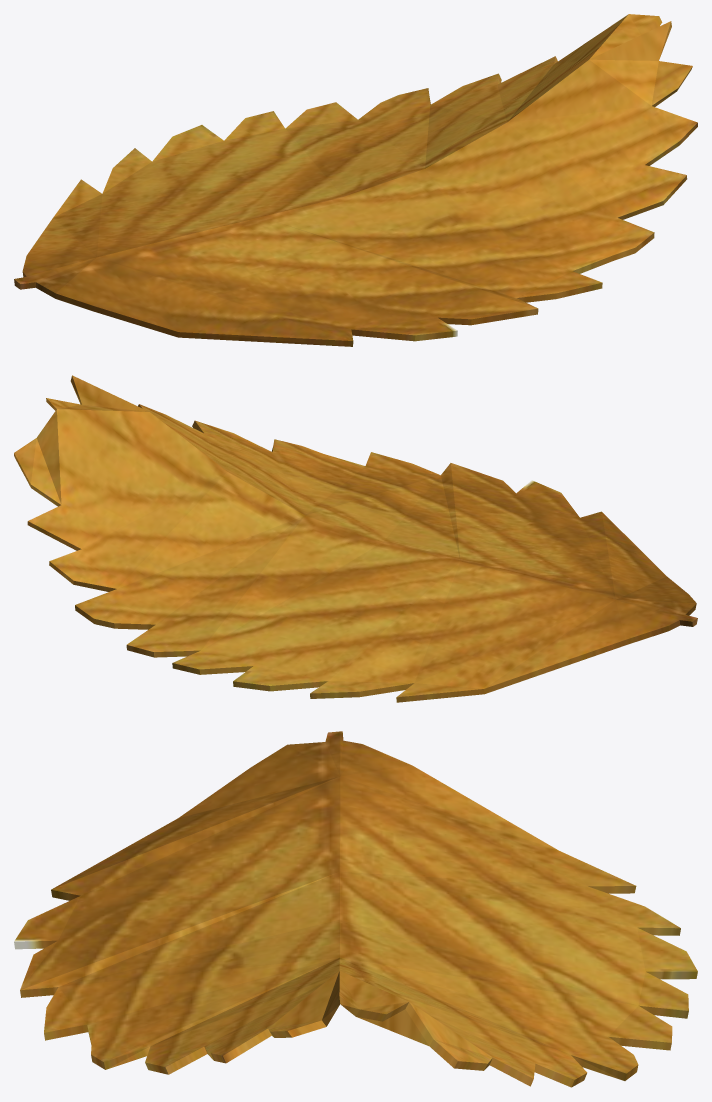
The model's file is leaf2_collision.dae.
3 views of the same model, one above another, from view 1: azimuth 30°, elevation 25°; view 2: azimuth 150°, elevation 25°; view 3: azimuth 270°, elevation 25° (orthographic). The views are drawn at different scales.
Parts seen in each view (by area): view 1: Plane; view 2: Plane; view 3: Plane.
Boxes of the visible parts, x1=… form: Plane: x1=14, y1=14, x2=697, y2=346; Plane: x1=14, y1=375, x2=697, y2=702; Plane: x1=14, y1=731, x2=697, y2=1087.
Size of the model in its own units: 0.1377 by 0.1018 by 0.0278.
Materials: 1 (1 with a texture image).
